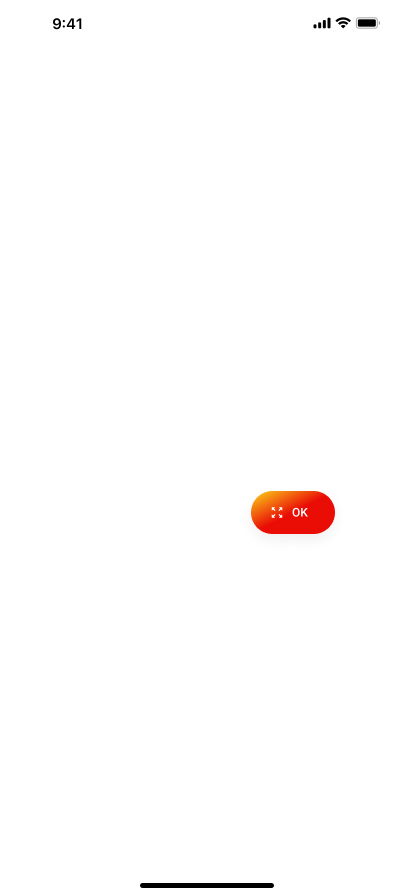Buttons: (236, 482, 350, 555)
Home Indicator: (0, 862, 414, 896)
Status Bar: (0, 0, 414, 44)
